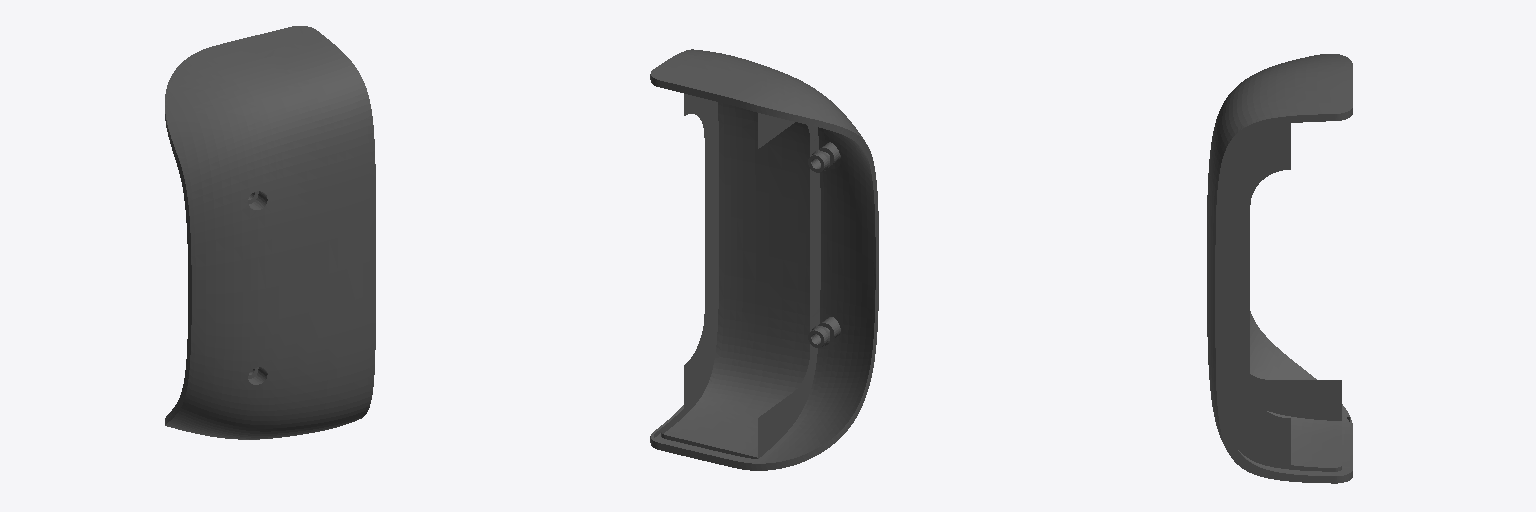
File: head_l3_3.obj
3 renders of one model, left to right at view 1: azimuth 30°, elevation 25°; view 2: azimuth 150°, elevation 25°; view 3: azimuth 270°, elevation 25°, orthographic.
Size of the model in its own units: 0.065 by 0.1309 by 0.047.